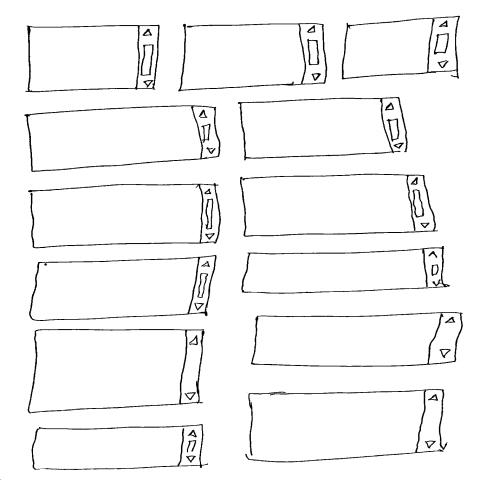Textarea: (246, 390, 451, 463), (29, 330, 205, 414), (25, 106, 221, 173), (29, 184, 221, 249), (241, 175, 439, 238), (30, 256, 217, 322), (252, 313, 463, 368), (239, 98, 408, 161), (179, 24, 328, 92), (242, 247, 451, 294), (26, 26, 160, 93), (33, 425, 210, 471), (343, 16, 461, 80)
